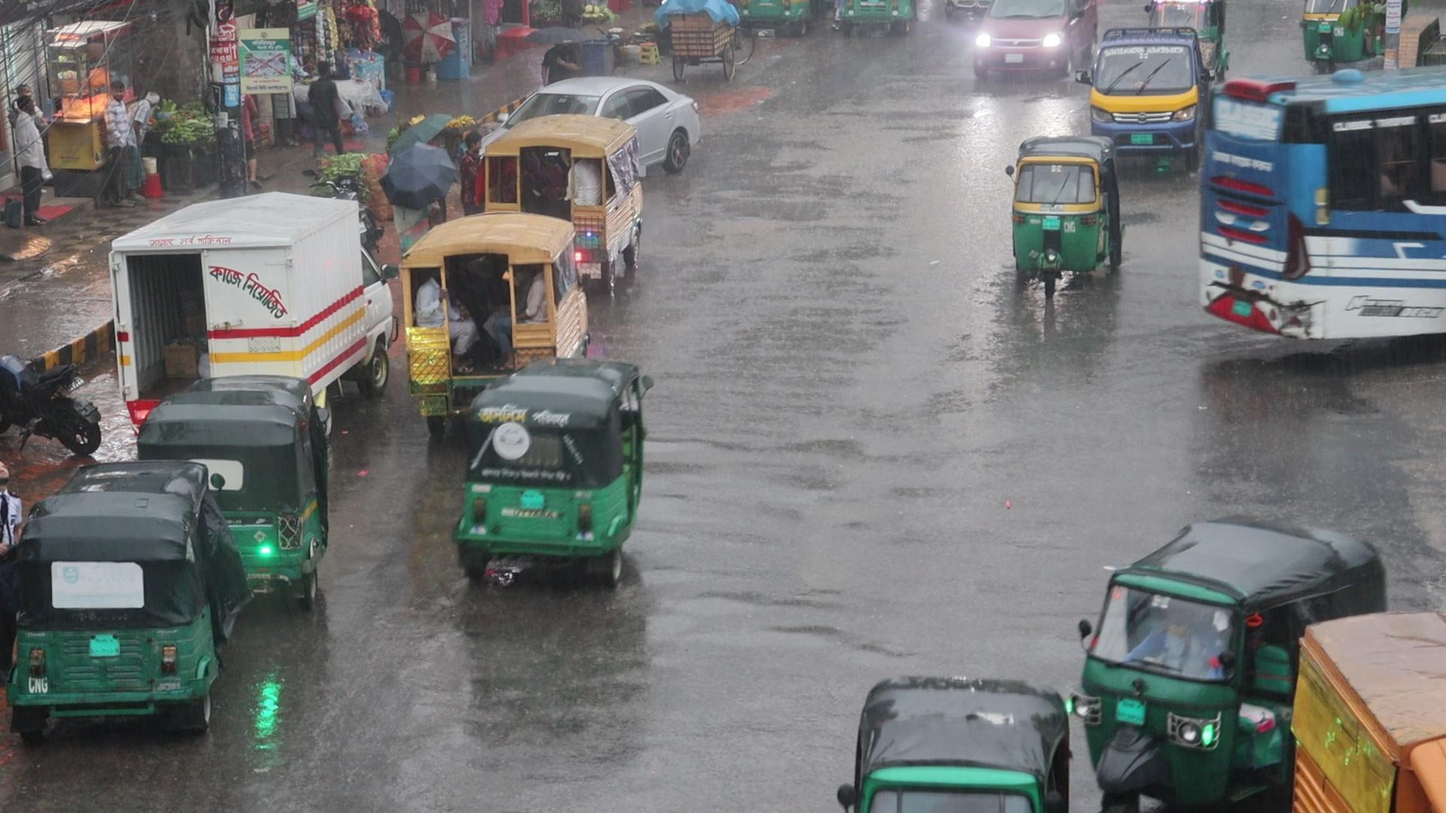Car: (476, 66, 704, 182), (973, 0, 1097, 94)
Truck: (390, 206, 599, 446), (469, 106, 650, 297), (1088, 14, 1220, 175)
